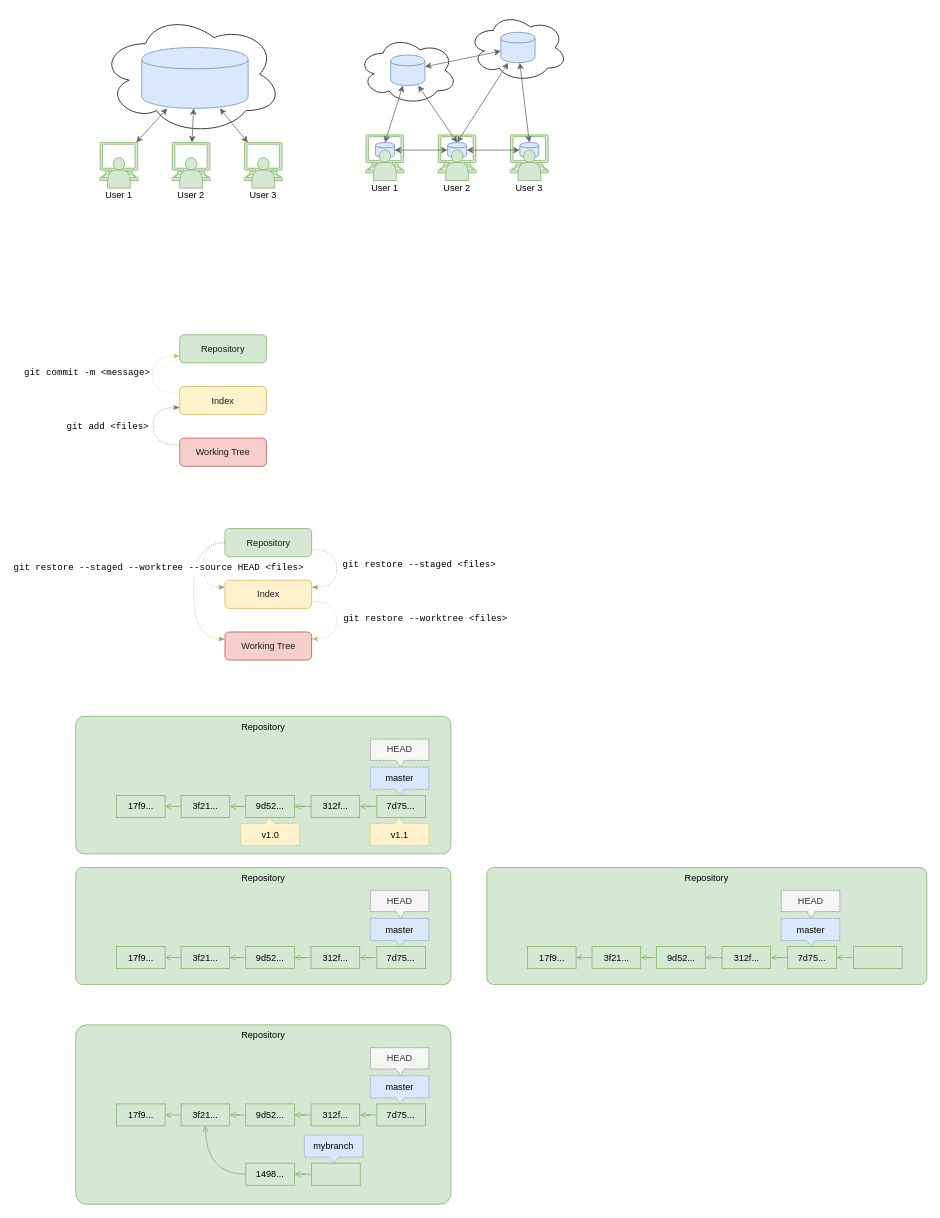
This 940x1218 diagram has some shape labels left out. The shapes that lost their labels are listed below. From the top down, each one's centre as x and y in pixels, then its label:
point 194,77: Central File Repository & Change History
point 877,957: 4e2c...
point 335,1173: ee32...
